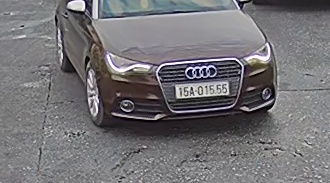vehicle plate: (171, 80, 231, 98)
